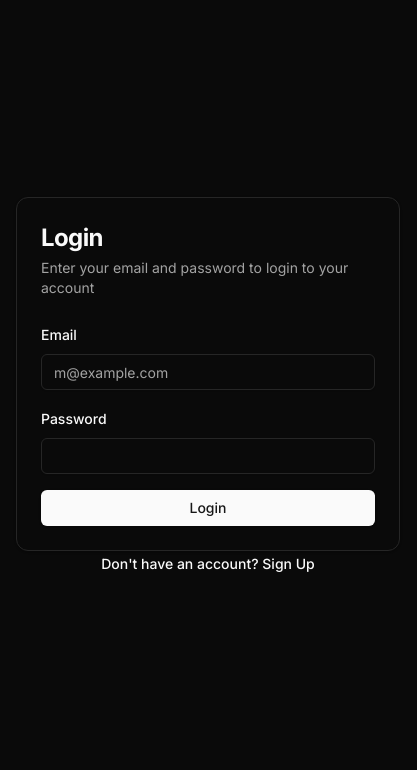
Test: Authentication Tests › should toggle between Sign In and Sign Up
Check: the heading with class "auth-title" reads "Login", box top-left (41, 223), bottom-right (103, 252)
// Click to switch to Sign Up form
Click the button "Sign Up" at (288, 564), box top-left (262, 557), bottom-right (314, 571)
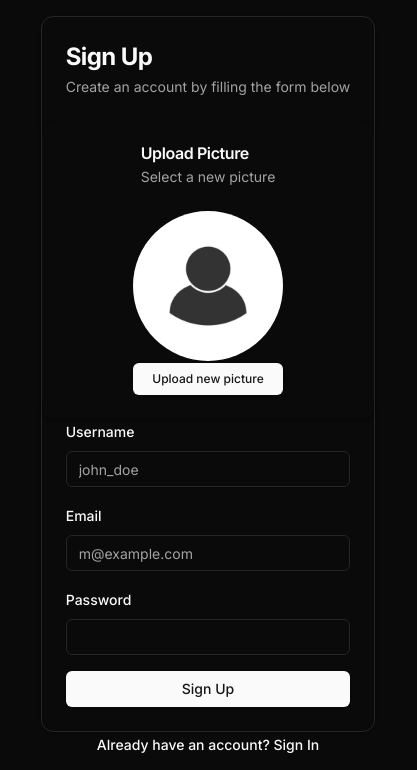
Check: the heading with class "auth-title" reads "Sign Up", box top-left (66, 42), bottom-right (153, 71)
// Click to switch back to Sign In form
Click the button "Sign In" at (297, 745), box top-left (274, 738), bottom-right (320, 752)
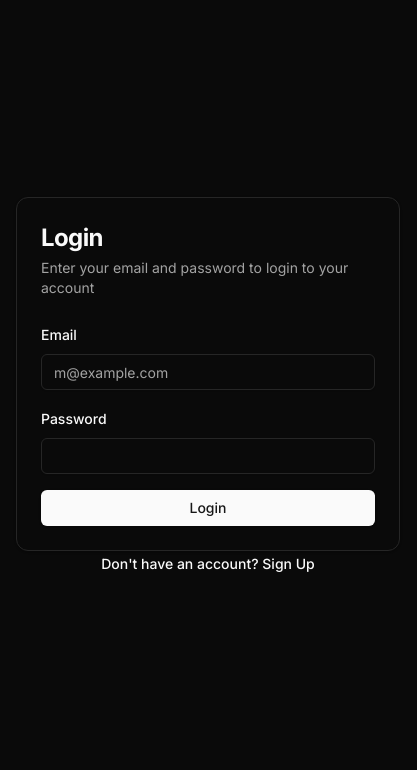
Check: the heading with class "auth-title" reads "Login", box top-left (41, 223), bottom-right (103, 252)
